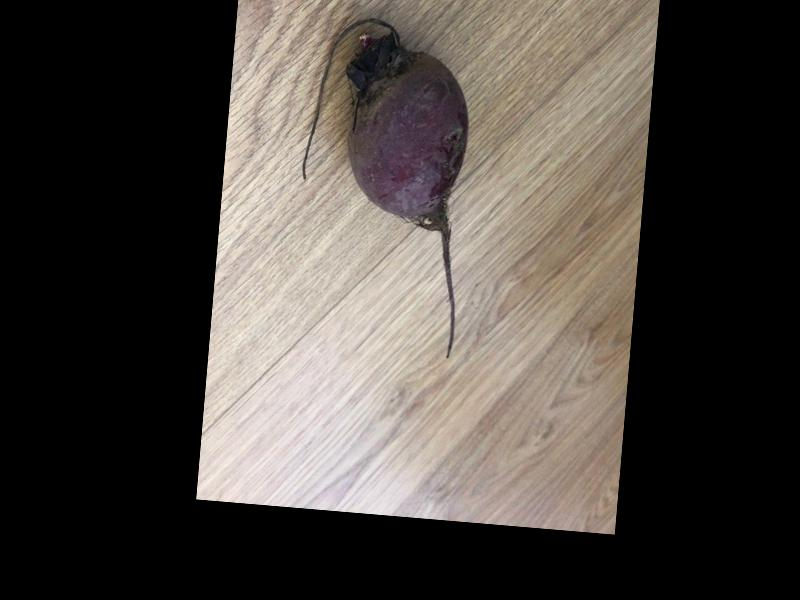Beet: (287, 13, 480, 358)
